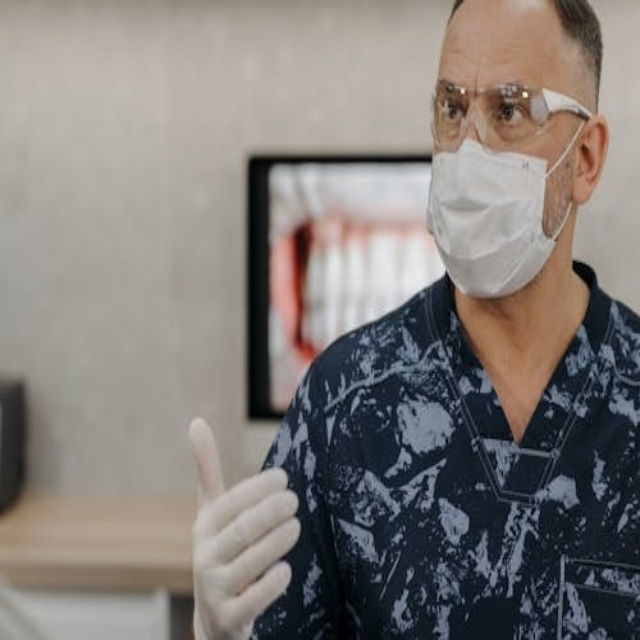Gafas: (427, 81, 592, 148)
Guantes: (187, 416, 300, 640)
Mascara: (427, 107, 585, 297)
